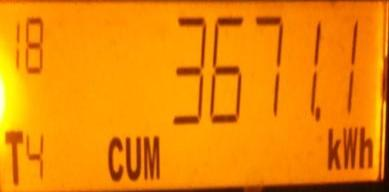.: (322, 124, 375, 178)
0: (314, 104, 322, 123)
2: (345, 16, 361, 115), (308, 17, 322, 117)
4: (172, 14, 206, 126)
7: (211, 16, 246, 122)
8: (252, 15, 286, 120)
